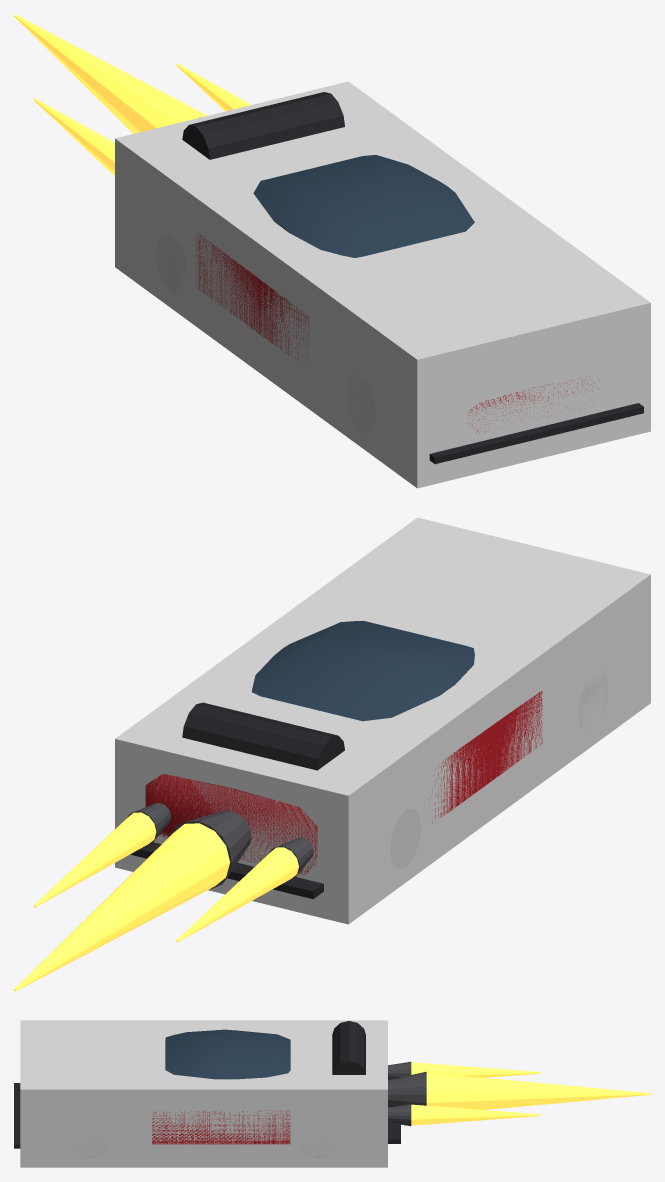
File: VH_RocketRoadster.glb
3 views of the same model, one above another, from view 1: azimuth 30°, elevation 25°; view 2: azimuth 150°, elevation 25°; view 3: azimuth 270°, elevation 25° (orthographic). The views are drawn at different scales.
Visible parts, largest first — view 1: COL_body, VH_RocketRoadster_Cabin_LOD0, VH_RocketRoadster_TankFairing_LOD0, VH_RocketRoadster_FlameOuter_C_LOD0, VH_RocketRoadster_Body_LOD0, VH_RocketRoadster_Splitter_LOD0, VH_RocketRoadster_FlameOuter_L_LOD0, VH_RocketRoadster_Rim_FL_LOD0, VH_RocketRoadster_Rim_RL_LOD0, VH_RocketRoadster_FlameOuter_R_LOD0; view 2: COL_body, VH_RocketRoadster_Cabin_LOD0, VH_RocketRoadster_Body_LOD0, VH_RocketRoadster_FlameOuter_C_LOD0, VH_RocketRoadster_TankFairing_LOD0, VH_RocketRoadster_FlameOuter_R_LOD0, VH_RocketRoadster_FlameOuter_L_LOD0, VH_RocketRoadster_Nozzle_C_LOD0, VH_RocketRoadster_Rim_RL_LOD0, VH_RocketRoadster_Diffuser_LOD0, VH_RocketRoadster_Rim_FL_LOD0; view 3: COL_body, VH_RocketRoadster_Cabin_LOD0, VH_RocketRoadster_FlameOuter_C_LOD0, VH_RocketRoadster_Body_LOD0, VH_RocketRoadster_TankFairing_LOD0, VH_RocketRoadster_FlameOuter_R_LOD0, VH_RocketRoadster_Nozzle_C_LOD0, VH_RocketRoadster_FlameOuter_L_LOD0, VH_RocketRoadster_Rim_RR_LOD0, VH_RocketRoadster_Rim_FR_LOD0, VH_RocketRoadster_Nozzle_R_LOD0, VH_RocketRoadster_Splitter_LOD0 (+2 smaller).
Boxes of the visible parts, bbox=[...] form: COL_body: bbox=[115, 81, 650, 488]; VH_RocketRoadster_Cabin_LOD0: bbox=[253, 155, 474, 257]; VH_RocketRoadster_TankFairing_LOD0: bbox=[182, 92, 344, 159]; VH_RocketRoadster_FlameOuter_C_LOD0: bbox=[14, 14, 207, 133]; VH_RocketRoadster_Body_LOD0: bbox=[195, 233, 596, 433]; VH_RocketRoadster_Splitter_LOD0: bbox=[429, 403, 643, 464]; VH_RocketRoadster_FlameOuter_L_LOD0: bbox=[33, 98, 114, 175]; VH_RocketRoadster_Rim_FL_LOD0: bbox=[344, 372, 375, 433]; VH_RocketRoadster_Rim_RL_LOD0: bbox=[157, 234, 187, 294]; VH_RocketRoadster_FlameOuter_R_LOD0: bbox=[176, 63, 251, 111]; COL_body: bbox=[115, 517, 650, 924]; VH_RocketRoadster_Cabin_LOD0: bbox=[251, 620, 474, 721]; VH_RocketRoadster_Body_LOD0: bbox=[145, 691, 542, 874]; VH_RocketRoadster_FlameOuter_C_LOD0: bbox=[14, 823, 229, 991]; VH_RocketRoadster_TankFairing_LOD0: bbox=[182, 702, 344, 770]; VH_RocketRoadster_FlameOuter_R_LOD0: bbox=[33, 812, 156, 907]; VH_RocketRoadster_FlameOuter_L_LOD0: bbox=[176, 847, 298, 942]; VH_RocketRoadster_Nozzle_C_LOD0: bbox=[170, 810, 251, 888]; VH_RocketRoadster_Rim_RL_LOD0: bbox=[390, 808, 421, 868]; VH_RocketRoadster_Diffuser_LOD0: bbox=[130, 842, 323, 899]; VH_RocketRoadster_Rim_FL_LOD0: bbox=[578, 670, 608, 731]; COL_body: bbox=[20, 1020, 387, 1167]; VH_RocketRoadster_Cabin_LOD0: bbox=[165, 1029, 290, 1079]; VH_RocketRoadster_FlameOuter_C_LOD0: bbox=[426, 1073, 650, 1109]; VH_RocketRoadster_Body_LOD0: bbox=[152, 1110, 290, 1144]; VH_RocketRoadster_TankFairing_LOD0: bbox=[332, 1021, 365, 1074]; VH_RocketRoadster_FlameOuter_R_LOD0: bbox=[411, 1104, 540, 1125]; VH_RocketRoadster_Nozzle_C_LOD0: bbox=[388, 1071, 426, 1107]; VH_RocketRoadster_FlameOuter_L_LOD0: bbox=[411, 1062, 540, 1077]; VH_RocketRoadster_Rim_RR_LOD0: bbox=[299, 1123, 337, 1158]; VH_RocketRoadster_Rim_FR_LOD0: bbox=[71, 1123, 107, 1158]; VH_RocketRoadster_Nozzle_R_LOD0: bbox=[388, 1104, 411, 1126]; VH_RocketRoadster_Splitter_LOD0: bbox=[14, 1083, 20, 1148].
Bounding box in the file's own units: 1.9 × 1.18 × 7.39.
